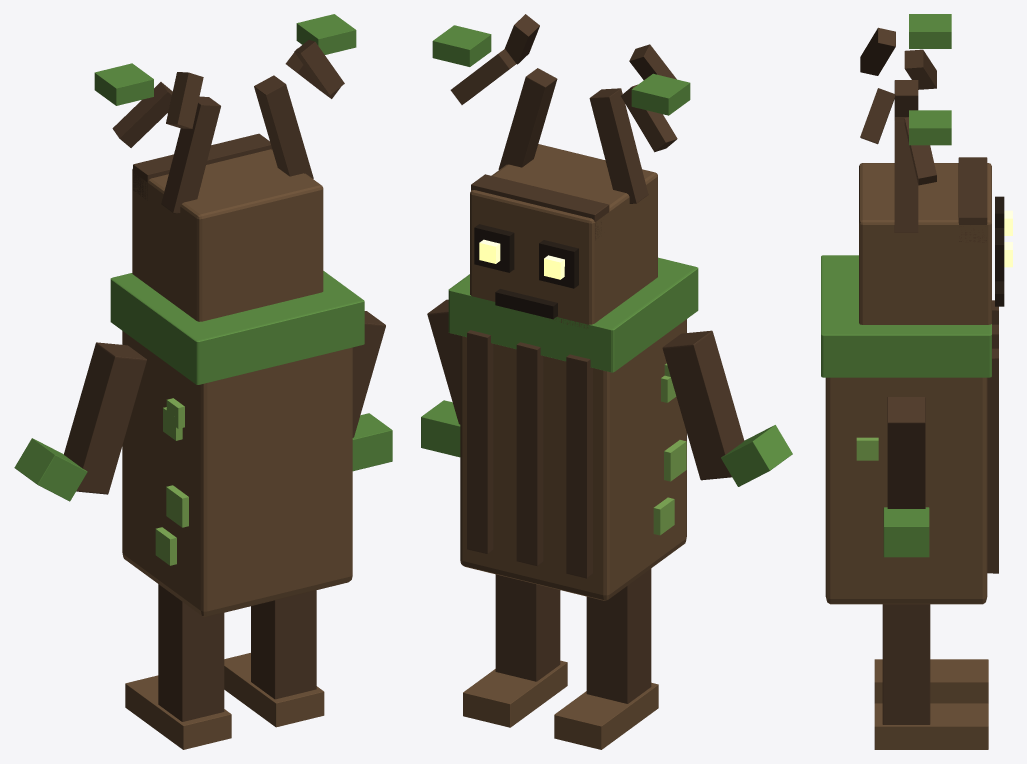
Rendered from branchwalker.glb.
The picture shows the model from 3 angles, left to right: view 1: azimuth 30°, elevation 25°; view 2: azimuth 150°, elevation 25°; view 3: azimuth 270°, elevation 25°; orthographic projection. The views are drawn at different scales.
Parts seen in each view (by area): view 1: body, head, leg.FR, arm.R, leg.FL, ear.R, ear.L, arm.L; view 2: body, head, leg.FR, leg.FL, arm.R, ear.R, ear.L, arm.L; view 3: body, head, leg.FL, arm.L, ear.L, ear.R, leg.FR.
Boxes of the visible parts, box(x1,y1,x2,y2) form: body: box(110, 271, 364, 617); head: box(132, 133, 323, 321); leg.FR: box(125, 584, 231, 749); arm.R: box(14, 342, 146, 501); leg.FL: box(224, 590, 324, 727); ear.R: box(94, 63, 220, 213); ear.L: box(254, 14, 356, 178); arm.L: box(352, 311, 392, 471); body: box(448, 257, 698, 600); head: box(470, 144, 657, 328); leg.FR: box(554, 568, 658, 749); leg.FL: box(463, 574, 567, 727); arm.R: box(662, 330, 792, 486); ear.R: box(589, 44, 690, 203); ear.L: box(432, 14, 557, 169); arm.L: box(421, 299, 460, 457); body: box(821, 255, 998, 604); head: box(859, 157, 1012, 324); leg.FL: box(874, 604, 988, 749); arm.L: box(883, 397, 929, 557); ear.L: box(860, 88, 951, 232); ear.R: box(860, 14, 951, 116); leg.FR: box(874, 659, 988, 703).
Bounding box in the file's own units: 0.5391 × 0.9786 × 0.2583.
